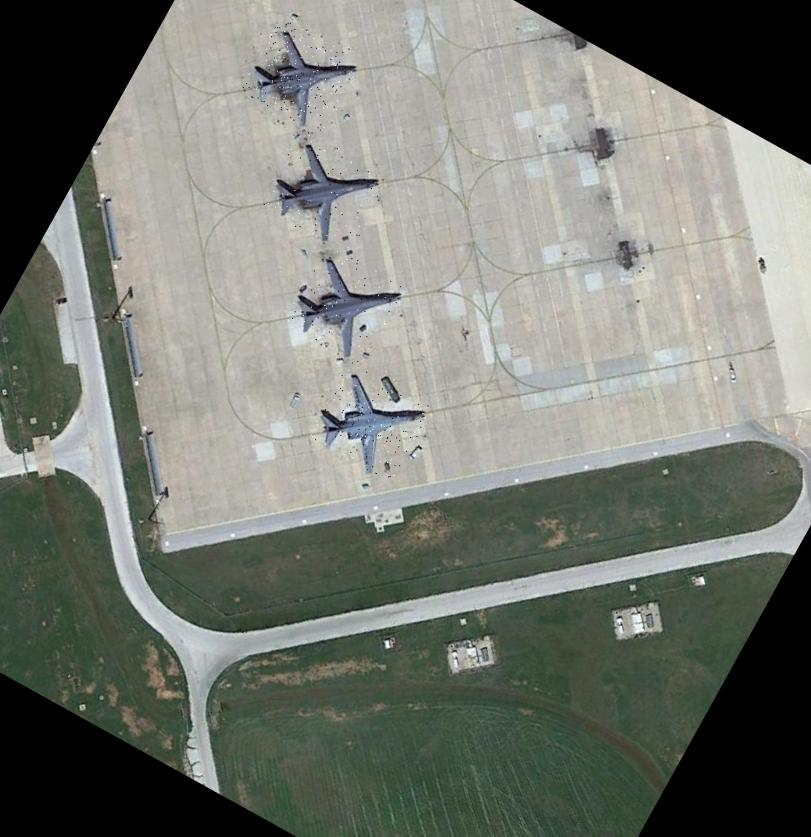A10: (258, 128, 391, 256), (282, 242, 408, 368), (306, 360, 434, 484), (240, 16, 362, 136)
